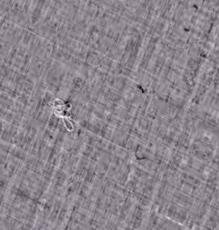snag: (41, 89, 80, 139)
